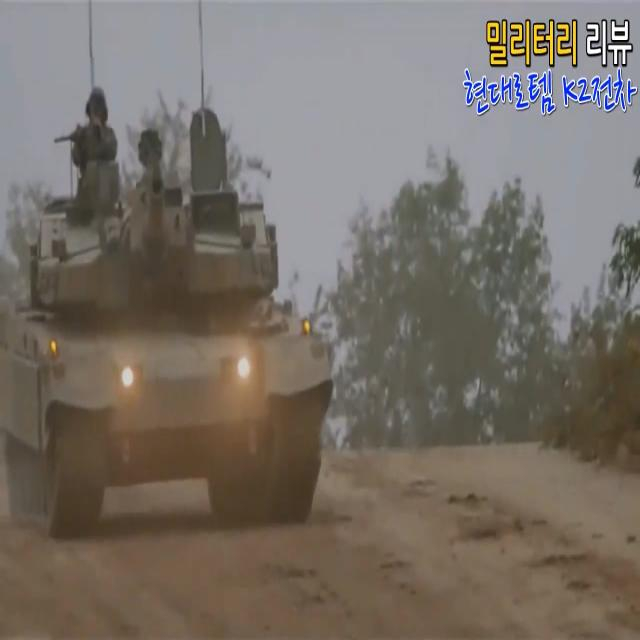korea tank: (0, 86, 338, 542)
